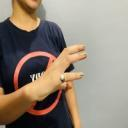hand: (33, 44, 87, 101)
